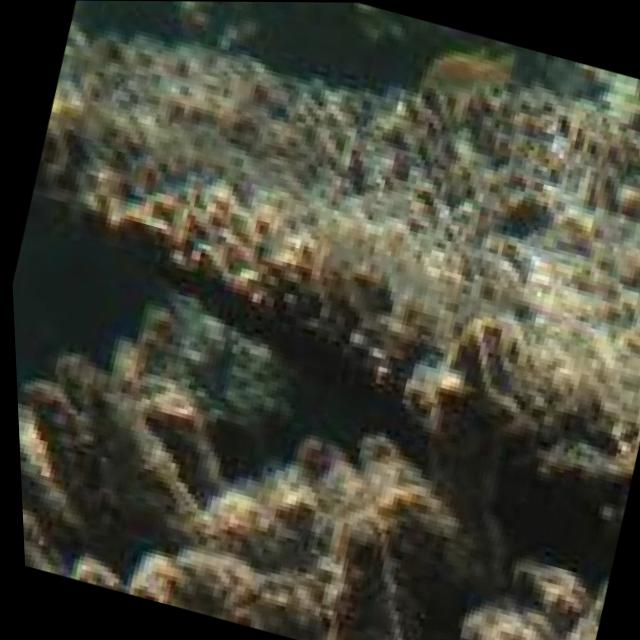Dead Coral: (0, 0, 640, 503), (12, 341, 231, 608), (287, 495, 425, 640)
